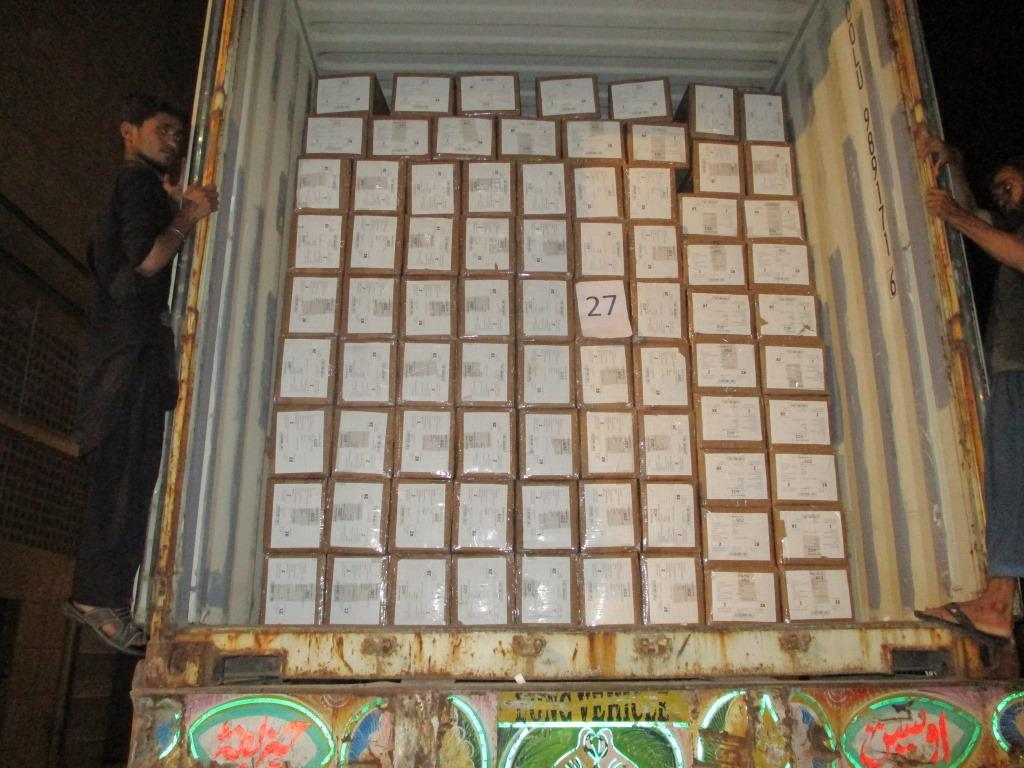carton: (325, 478, 390, 554), (515, 551, 578, 629), (387, 479, 452, 554), (704, 562, 781, 624), (640, 553, 705, 626), (451, 477, 515, 551), (577, 552, 641, 626), (451, 553, 515, 626), (323, 554, 388, 625), (387, 554, 451, 626), (515, 480, 579, 552), (269, 405, 333, 477), (577, 478, 640, 551), (330, 406, 394, 477), (260, 554, 323, 625), (639, 480, 701, 552), (264, 478, 325, 551), (395, 405, 456, 478), (773, 504, 847, 564), (517, 409, 579, 480), (698, 447, 771, 506), (778, 565, 853, 622), (456, 407, 517, 477), (700, 507, 774, 564), (275, 336, 337, 404), (768, 447, 840, 505), (579, 408, 639, 477), (638, 410, 697, 480), (455, 339, 515, 407), (757, 337, 828, 394), (281, 271, 343, 336), (336, 339, 396, 406), (574, 340, 633, 408), (632, 340, 691, 408), (516, 340, 574, 408), (694, 393, 765, 448), (396, 340, 455, 406), (690, 338, 760, 393), (516, 275, 574, 341), (340, 275, 400, 338), (343, 213, 403, 275), (399, 275, 458, 338), (764, 395, 833, 448), (574, 279, 632, 341), (458, 275, 515, 338), (746, 239, 815, 291), (686, 286, 753, 339), (681, 237, 747, 290), (516, 216, 574, 276), (752, 290, 821, 340), (289, 214, 347, 273), (681, 82, 740, 140), (630, 281, 687, 340), (403, 216, 460, 274), (567, 161, 624, 219), (294, 157, 351, 214), (515, 160, 572, 216), (459, 216, 514, 274), (573, 220, 627, 279), (627, 220, 680, 280), (623, 163, 677, 221), (678, 193, 744, 240), (349, 159, 406, 213), (691, 139, 745, 196), (311, 74, 386, 115), (535, 74, 604, 118), (626, 121, 690, 168), (406, 160, 460, 215), (431, 115, 495, 161), (462, 160, 515, 215), (455, 72, 521, 116), (743, 141, 796, 195), (608, 78, 673, 122), (742, 196, 804, 242), (368, 115, 431, 160), (390, 73, 455, 116), (562, 118, 627, 161), (303, 114, 368, 157), (496, 116, 559, 160), (739, 91, 787, 142)
